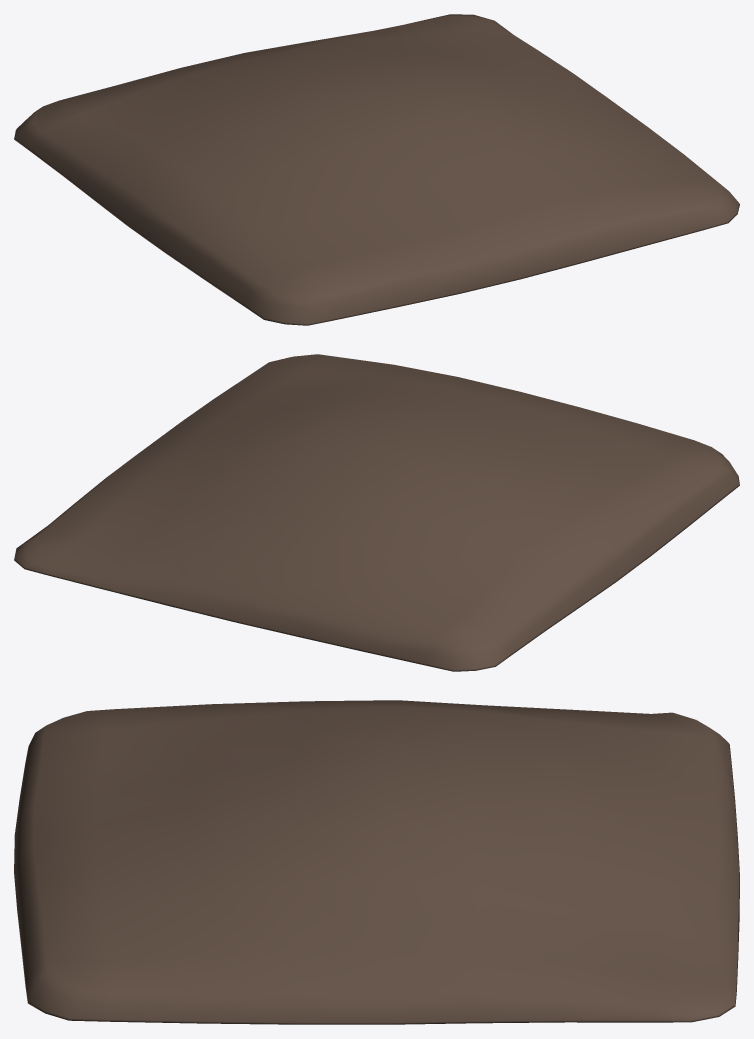
File: Field.fbx
3 views of the same model, one above another, from view 1: azimuth 30°, elevation 25°; view 2: azimuth 150°, elevation 25°; view 3: azimuth 270°, elevation 25° (orthographic). The views are drawn at different scales.
Parts seen in each view (by area): view 1: 立方体.005; view 2: 立方体.005; view 3: 立方体.005.
Boxes of the visible parts, box(x1,y1,x2,y2) form: 立方体.005: box(14, 14, 739, 325); 立方体.005: box(14, 354, 739, 671); 立方体.005: box(14, 700, 739, 1024).
Bounding box in the file's own units: 70.84 × 10.43 × 72.82.
